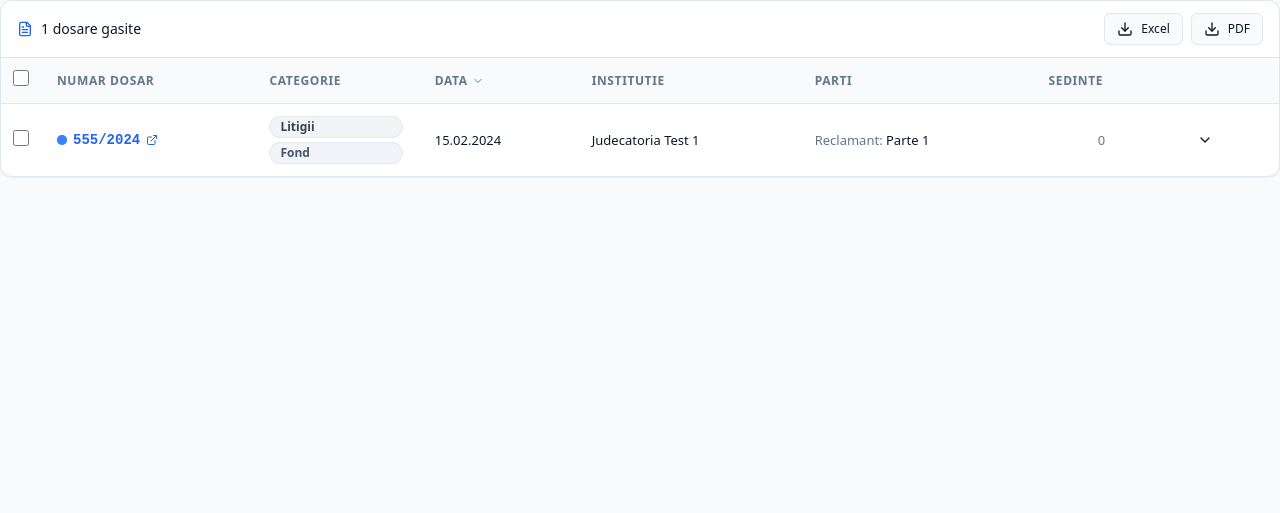
Test: DosareTable — characterization (handlers + side effects) › monitor: succes recent (created_at < 5s) → 'Adaugat la monitorizare'
Click the row that starts with "Litigii": (640, 140) [1, 104, 1279, 176]
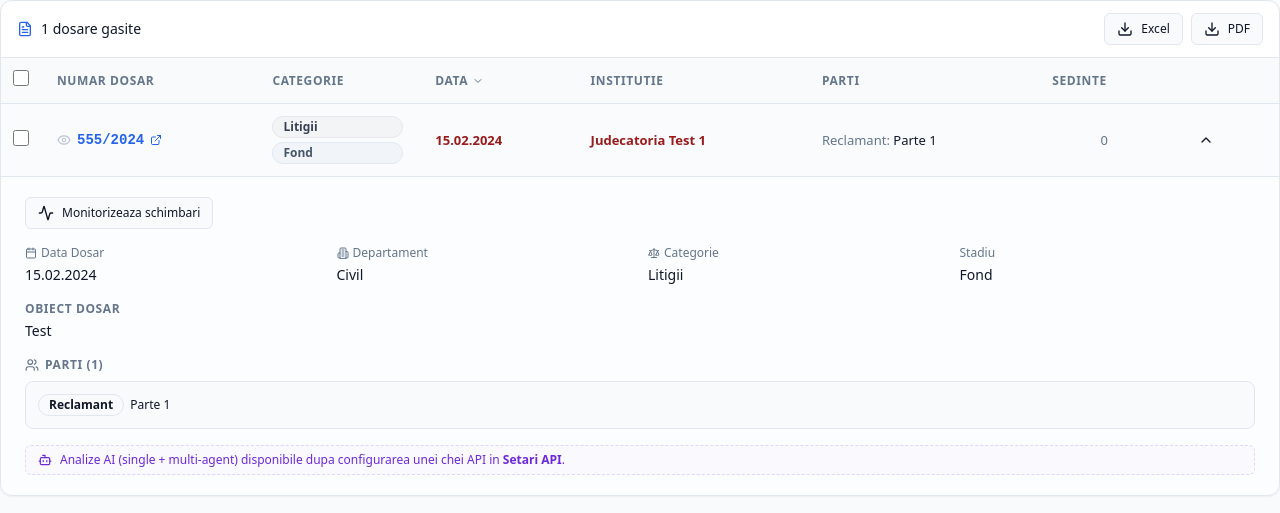
Click the button "Monitorizeaza schimbari": (119, 213) [25, 197, 213, 229]
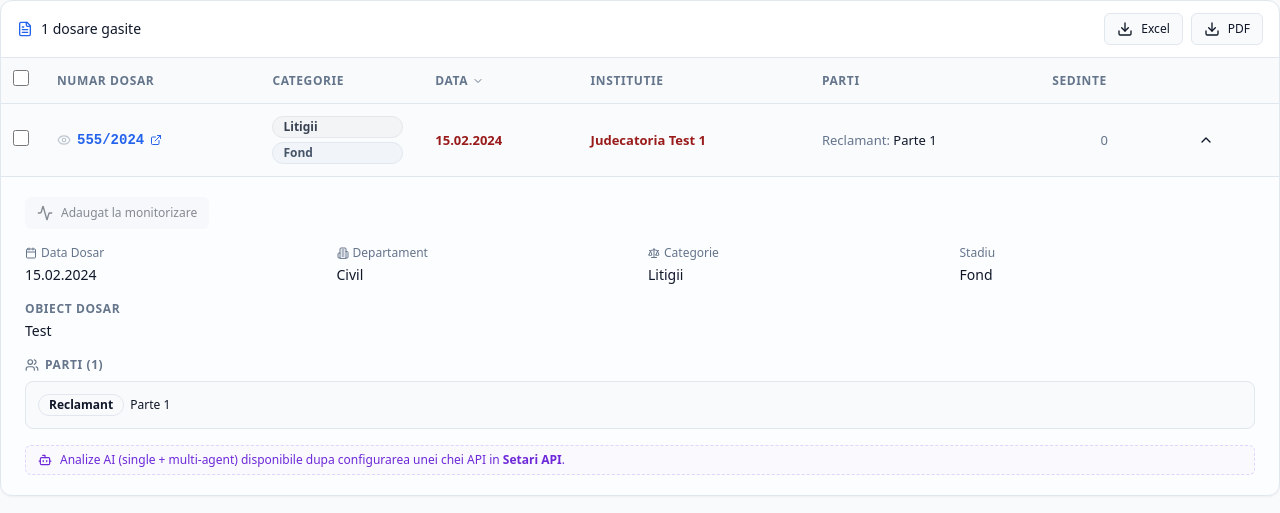
Check: the text "Adaugat la monitorizare" is shown, box [25, 197, 209, 229]
